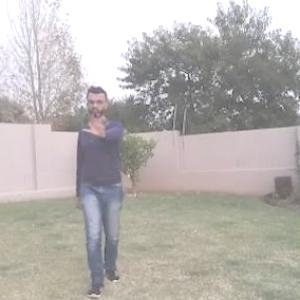follow_hand: (80, 108, 112, 138)
